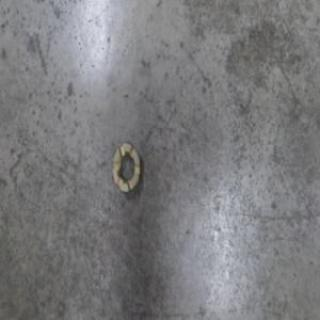Nuttrack_idkeyframe: (109, 137, 141, 194)
